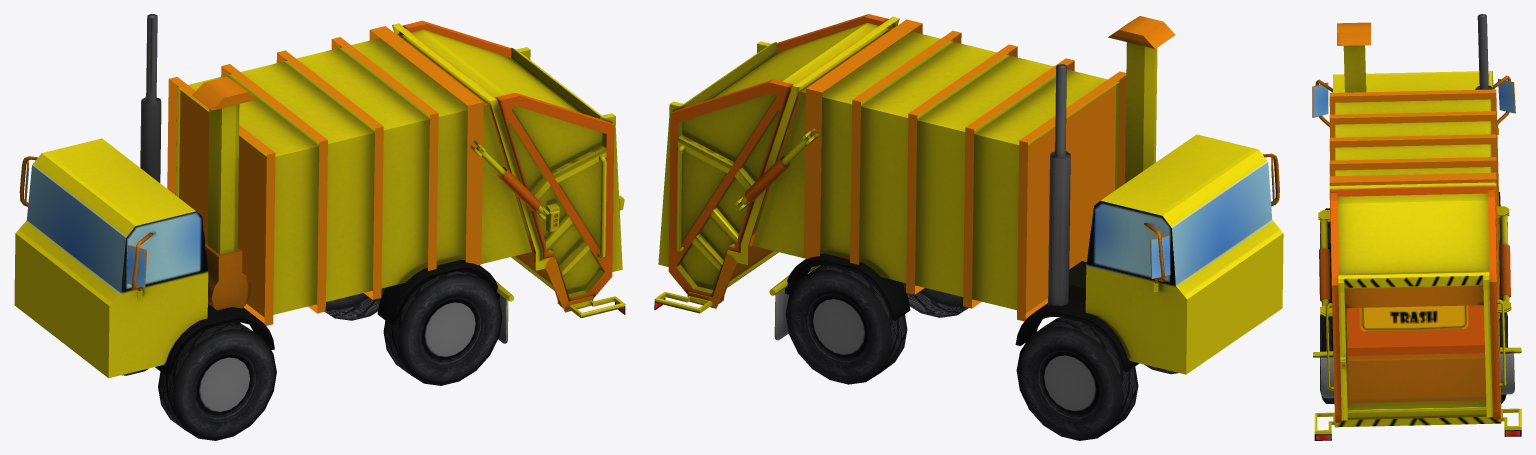
File: TruckMesh.fbx
3 views of the same model, side by side, from view 1: azimuth 30°, elevation 25°; view 2: azimuth 150°, elevation 25°; view 3: azimuth 270°, elevation 25° (orthographic). The views are drawn at different scales.
Parts seen in each view (by area): view 1: polySurface563, polySurface527, polySurface556, polySurface557; view 2: polySurface563, polySurface555, polySurface557, polySurface556; view 3: polySurface563, polySurface556, polySurface557, polySurface527.
Part boxes in pixels (box(x1,y1,x2,y2)): polySurface563: box(14, 14, 625, 378); polySurface527: box(158, 322, 276, 440); polySurface556: box(383, 271, 502, 385); polySurface557: box(324, 287, 386, 320); polySurface563: box(654, 14, 1283, 374); polySurface555: box(1016, 317, 1138, 440); polySurface557: box(785, 265, 907, 384); polySurface556: box(902, 282, 968, 317); polySurface563: box(1312, 14, 1521, 440); polySurface556: box(1320, 301, 1334, 403); polySurface557: box(1500, 312, 1507, 403); polySurface527: box(1320, 208, 1331, 301).
Size of the model in its own units: 7.25 by 4.68 by 2.99.
